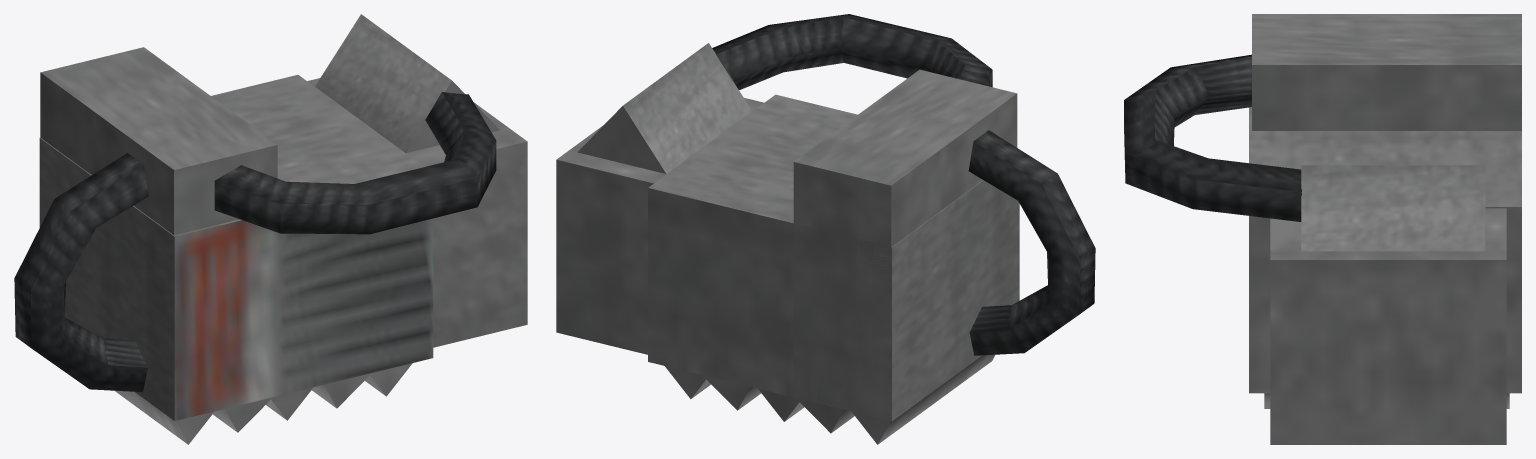
File: fcc.obj
3 views of the same model, side by side, from view 1: azimuth 30°, elevation 25°; view 2: azimuth 150°, elevation 25°; view 3: azimuth 270°, elevation 25° (orthographic). The views are drawn at different scales.
Parts seen in each view (by area): view 1: Cylinder03; view 2: Cylinder03; view 3: Cylinder03.
Boxes of the visible parts, x1,y1,x2,y2 form: Cylinder03: [14, 14, 527, 444]; Cylinder03: [556, 14, 1095, 444]; Cylinder03: [1124, 14, 1521, 444].
Bounding box in the file's own units: 70.68 × 40.37 × 50.68.
